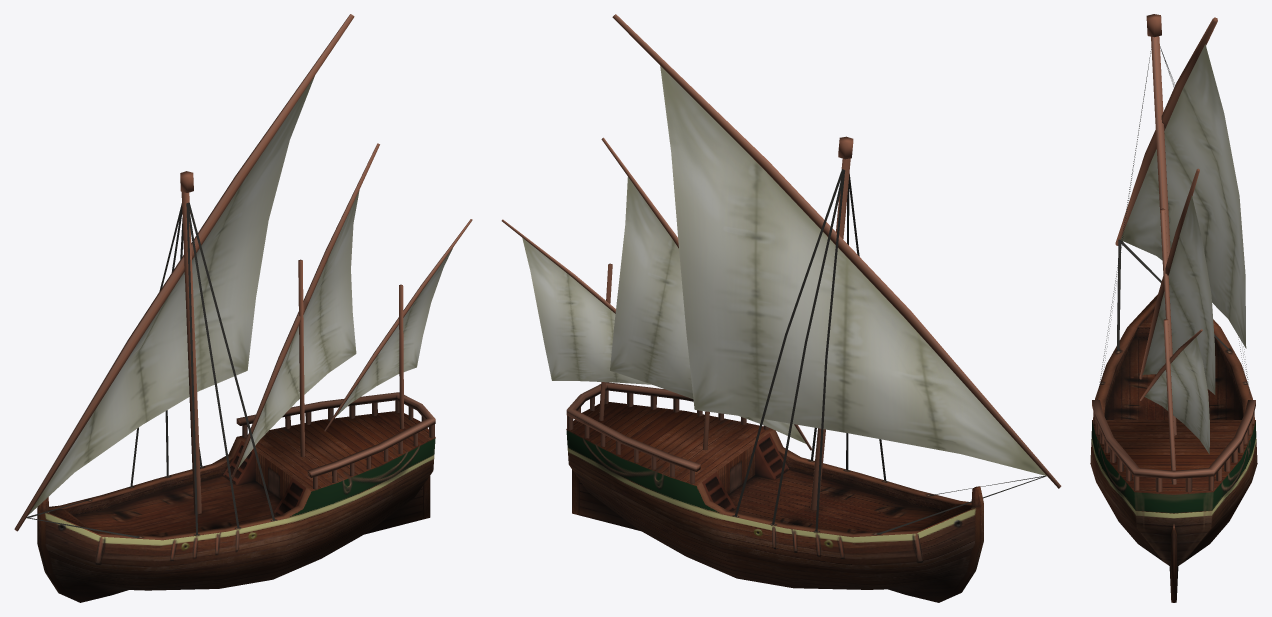
The model's file is barakas 1.fbx.
The picture shows the model from 3 angles, left to right: view 1: azimuth 30°, elevation 25°; view 2: azimuth 150°, elevation 25°; view 3: azimuth 270°, elevation 25°; orthographic projection. The views are drawn at different scales.
Visible parts, largest first — view 1: 02-barkas; view 2: 02-barkas; view 3: 02-barkas.
Part boxes in pixels (bbox=[...]): 02-barkas: bbox=[14, 14, 472, 602]; 02-barkas: bbox=[501, 14, 1061, 602]; 02-barkas: bbox=[1090, 14, 1257, 602].
Bounding box in the file's own units: 2518 × 2444 × 669.
